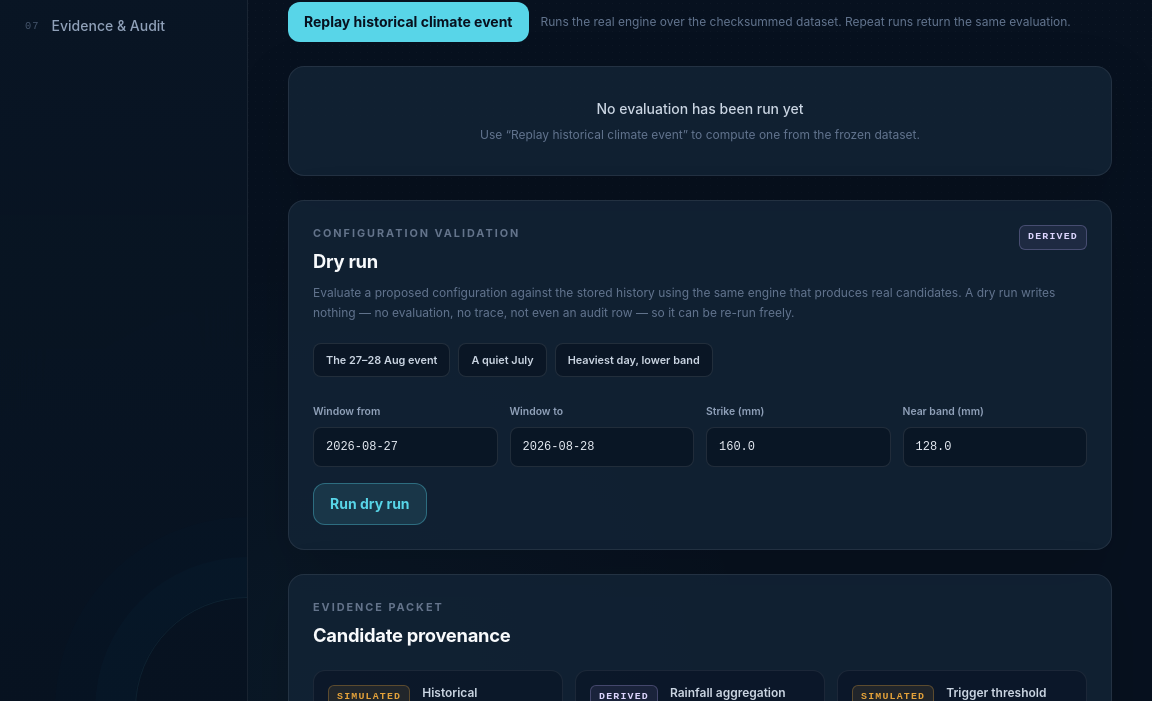
Scenario: MonsoonCover frontend foundation › runs a dry run and states plainly that nothing was persisted
The width and height of the screenshot is (1152, 701).
(page scrolled)
What coordinates should you click on to do the following:
click the button "A quiet July"
I would click on:
 (503, 360)
Its box is [458,343,547,377].
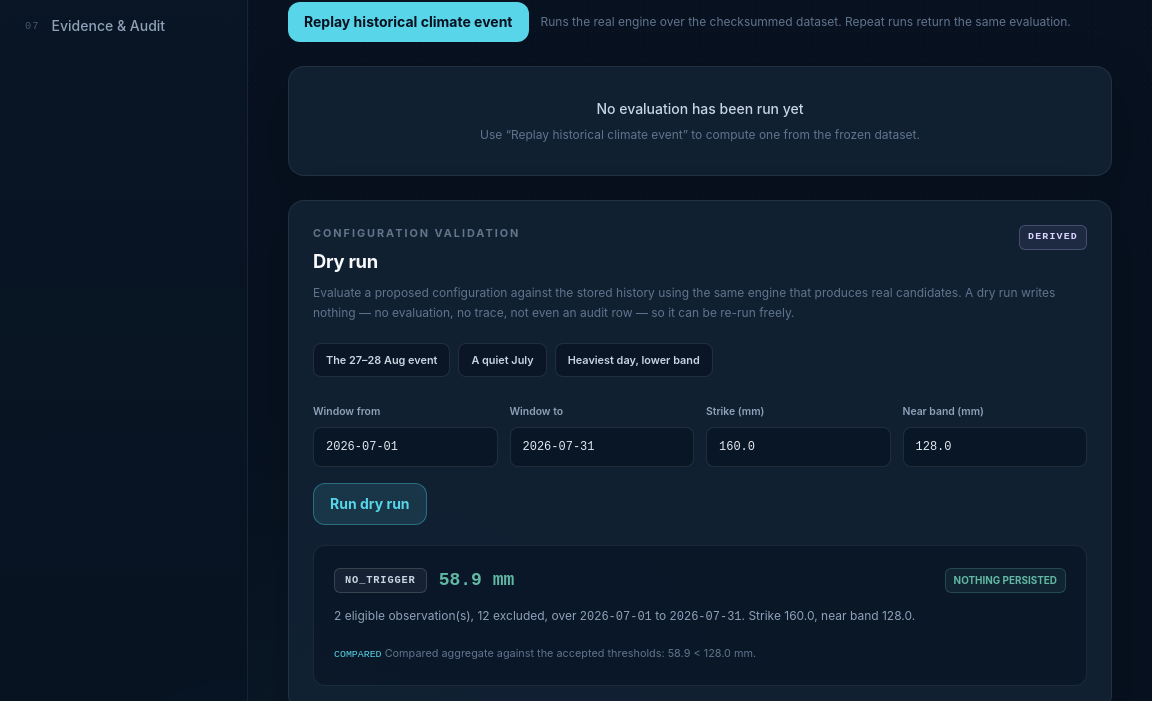
Check: the text named "Canonical state: NO_TRIGGER" is shown, box [334,568,427,593]
Check: the text "58.9 mm" is shown, box [439,566,514,594]
Check: the text "NOTHING PERSISTED" is shown, box [945,568,1066,593]
